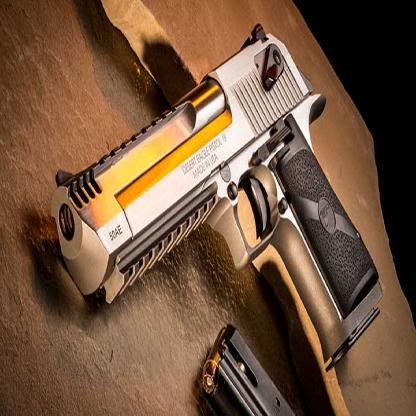handgun: (42, 17, 385, 365)
